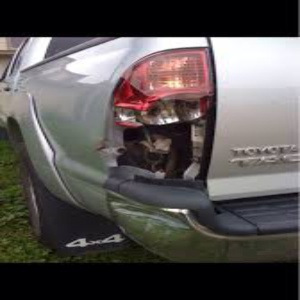tail_lights: (113, 48, 211, 180)
